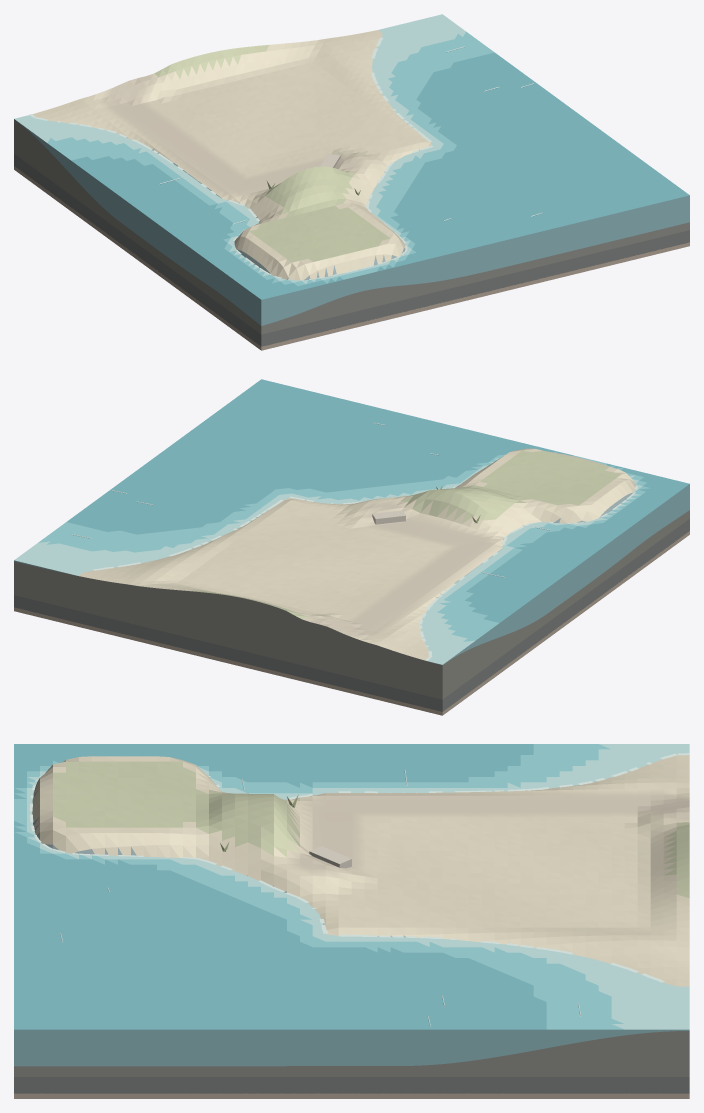
Rendered from J531_proc.glb.
3 renders of one model, top to bottom at view 1: azimuth 30°, elevation 25°; view 2: azimuth 150°, elevation 25°; view 3: azimuth 270°, elevation 25°, orthographic. The views are drawn at different scales.
Parts seen in each view (by area): view 1: proc_water, proc_ground, proc_skirt, proc_water_side, proc_foam; view 2: proc_water, proc_ground, proc_skirt, proc_water_side, proc_foam; view 3: proc_water, proc_ground, proc_skirt, proc_water_side, proc_foam.
Part boxes in pixels (bbox=[...]): proc_water: bbox=[14, 14, 689, 299]; proc_ground: bbox=[32, 30, 431, 280]; proc_skirt: bbox=[14, 119, 689, 350]; proc_water_side: bbox=[14, 119, 689, 325]; proc_foam: bbox=[29, 37, 433, 280]; proc_water: bbox=[14, 379, 689, 664]; proc_ground: bbox=[79, 448, 635, 660]; proc_skirt: bbox=[14, 510, 689, 715]; proc_water_side: bbox=[14, 484, 689, 665]; proc_foam: bbox=[93, 483, 637, 660]; proc_water: bbox=[14, 744, 689, 1029]; proc_ground: bbox=[32, 755, 689, 986]; proc_skirt: bbox=[14, 1031, 689, 1098]; proc_water_side: bbox=[14, 1029, 689, 1066]; proc_foam: bbox=[30, 753, 689, 982].
Bounding box in the file's own units: 8 × 1.39 × 8.
